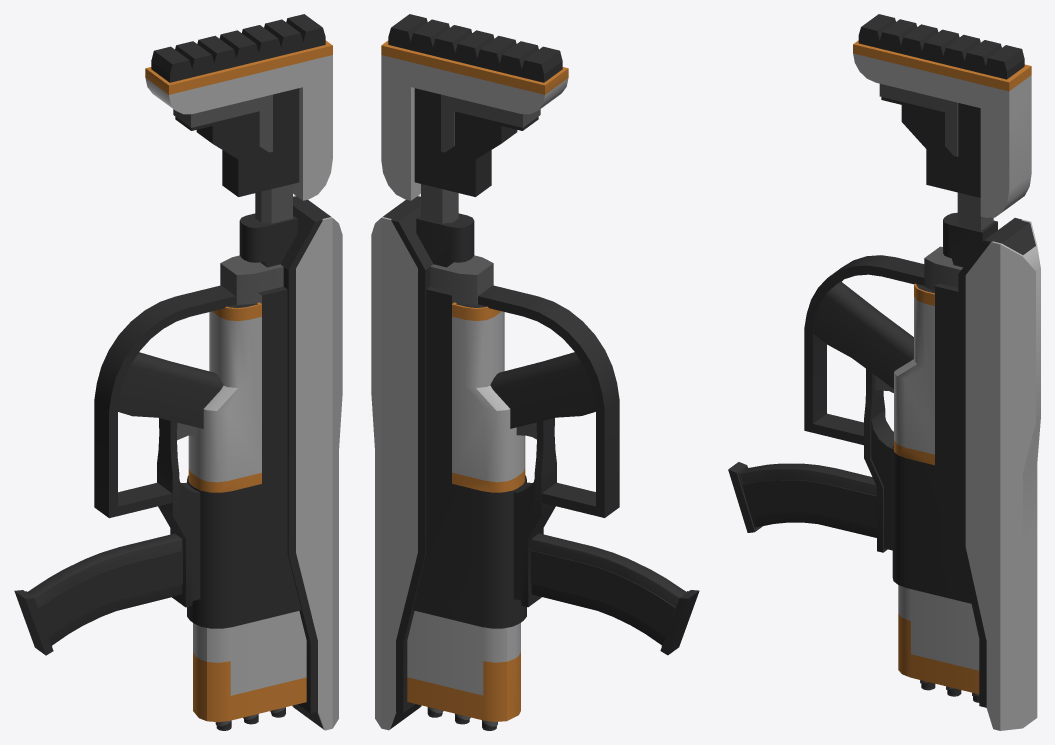
The picture shows the model from 3 angles, left to right: view 1: azimuth 30°, elevation 25°; view 2: azimuth 150°, elevation 25°; view 3: azimuth 330°, elevation 25°; orthographic projection. The views are drawn at different scales.
Parts seen in each view (by area): view 1: WeaponMesh_qg-ar-3_AR_3, WeaponMesh_qg-ar-3_Magazine_AR_2; view 2: WeaponMesh_qg-ar-3_AR_3, WeaponMesh_qg-ar-3_Magazine_AR_2; view 3: WeaponMesh_qg-ar-3_AR_3, WeaponMesh_qg-ar-3_Magazine_AR_2.
Boxes of the visible parts, <box> form: WeaponMesh_qg-ar-3_AR_3: <box>94,14,342,730</box>; WeaponMesh_qg-ar-3_Magazine_AR_2: <box>14,533,182,655</box>; WeaponMesh_qg-ar-3_AR_3: <box>371,14,619,730</box>; WeaponMesh_qg-ar-3_Magazine_AR_2: <box>531,533,699,655</box>; WeaponMesh_qg-ar-3_AR_3: <box>804,14,1040,730</box>; WeaponMesh_qg-ar-3_Magazine_AR_2: <box>728,462,876,537</box>.
Size of the model in its own units: 0.6013 by 1.25 by 0.1056.
